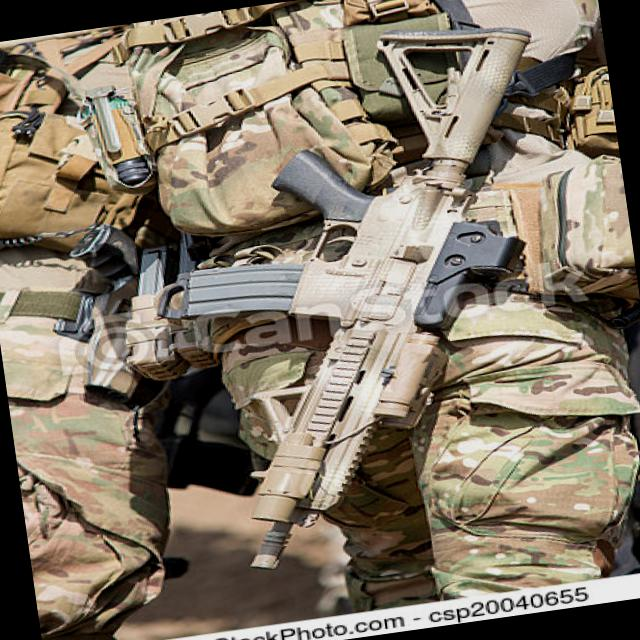long weapon: (125, 13, 587, 600)
